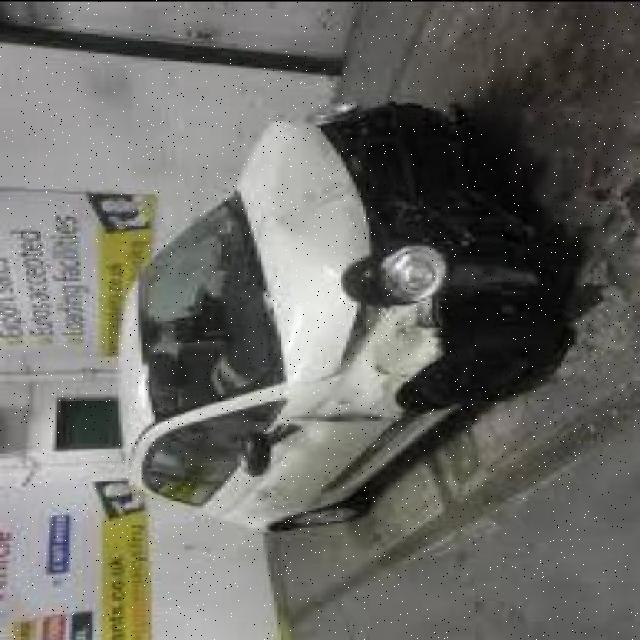damage: (269, 98, 540, 421)
